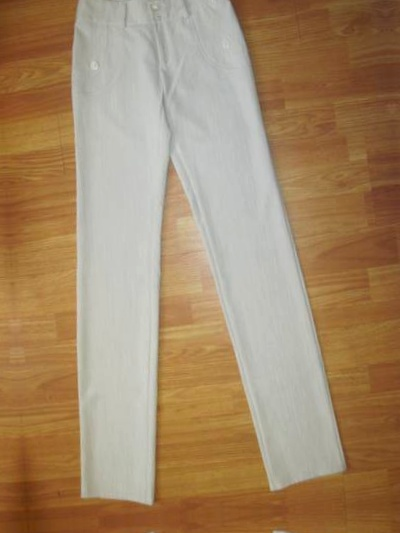Pants: (40, 0, 355, 511), (76, 520, 391, 533)
